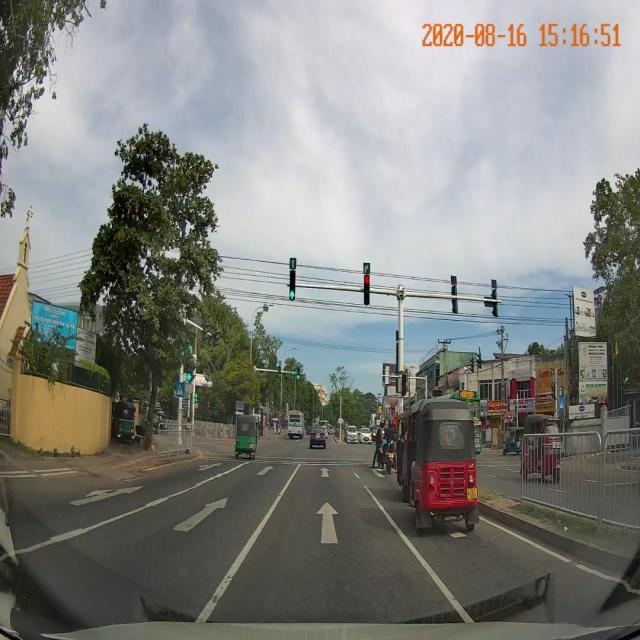Liniya 1: (14, 461, 253, 559), (352, 469, 481, 623), (192, 464, 303, 623), (481, 513, 623, 587), (32, 467, 74, 474), (40, 470, 80, 477), (0, 470, 32, 474)
Liniya 2: (201, 456, 371, 467)
Strelka vpered: (172, 496, 229, 534), (314, 499, 341, 545), (256, 465, 274, 476), (318, 467, 331, 478)
Strelka vpered - vlevo: (66, 486, 146, 508), (195, 462, 223, 472)
Strelka vpravo: (369, 467, 387, 478)
